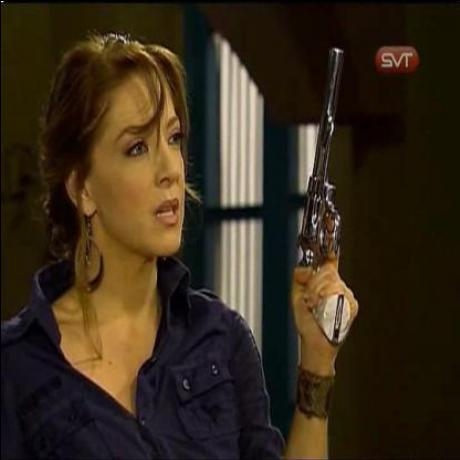1: (1, 21, 358, 460)
weapon: (290, 36, 358, 350)
